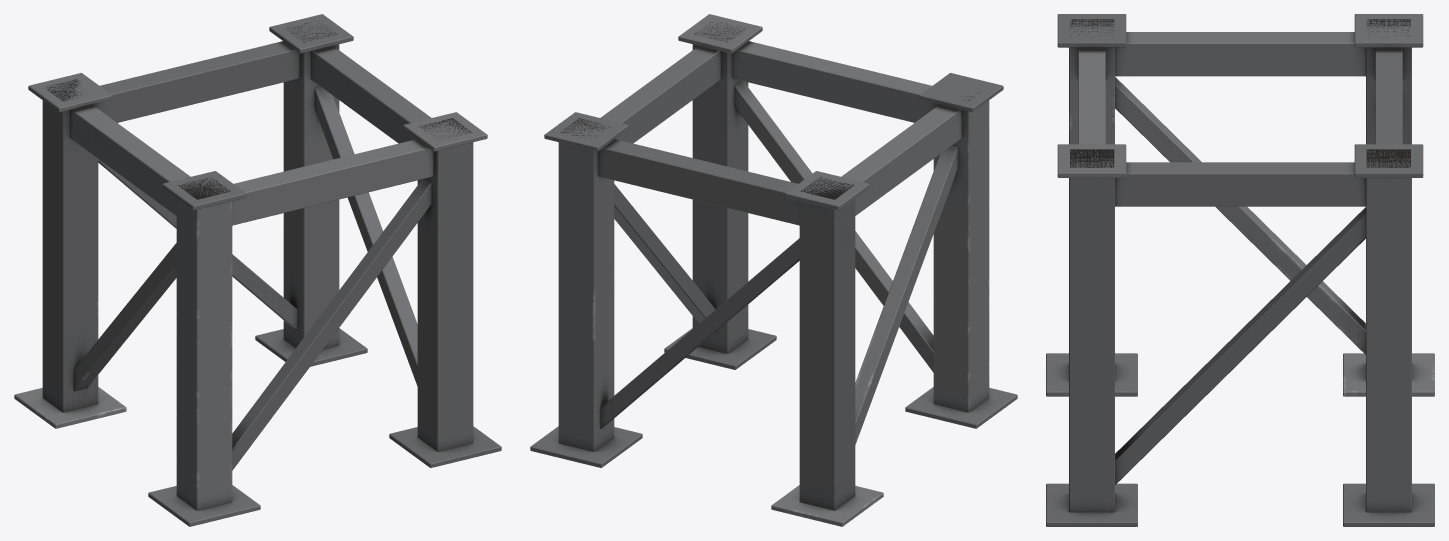
File: nodexeus-set-legs-5.glb
3 renders of one model, left to right at view 1: azimuth 30°, elevation 25°; view 2: azimuth 150°, elevation 25°; view 3: azimuth 270°, elevation 25°, orthographic. The views are drawn at different scales.
Parts seen in each view (by area): view 1: set-legs-5; view 2: set-legs-5; view 3: set-legs-5.
Part boxes in pixels (x1,y1,x2,y2): set-legs-5: [14, 14, 501, 526]; set-legs-5: [530, 14, 1017, 526]; set-legs-5: [1046, 14, 1434, 526].
Size of the model in its own units: 7.01 by 6.75 by 6.81.
1 material, 1 textured.
